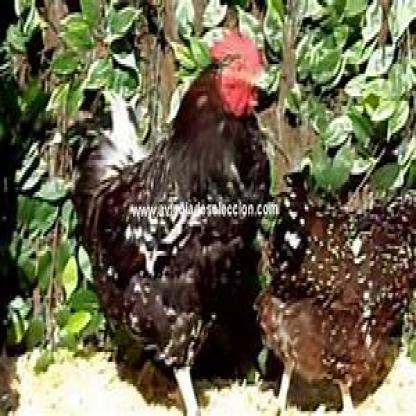cat: (70, 22, 270, 409)
